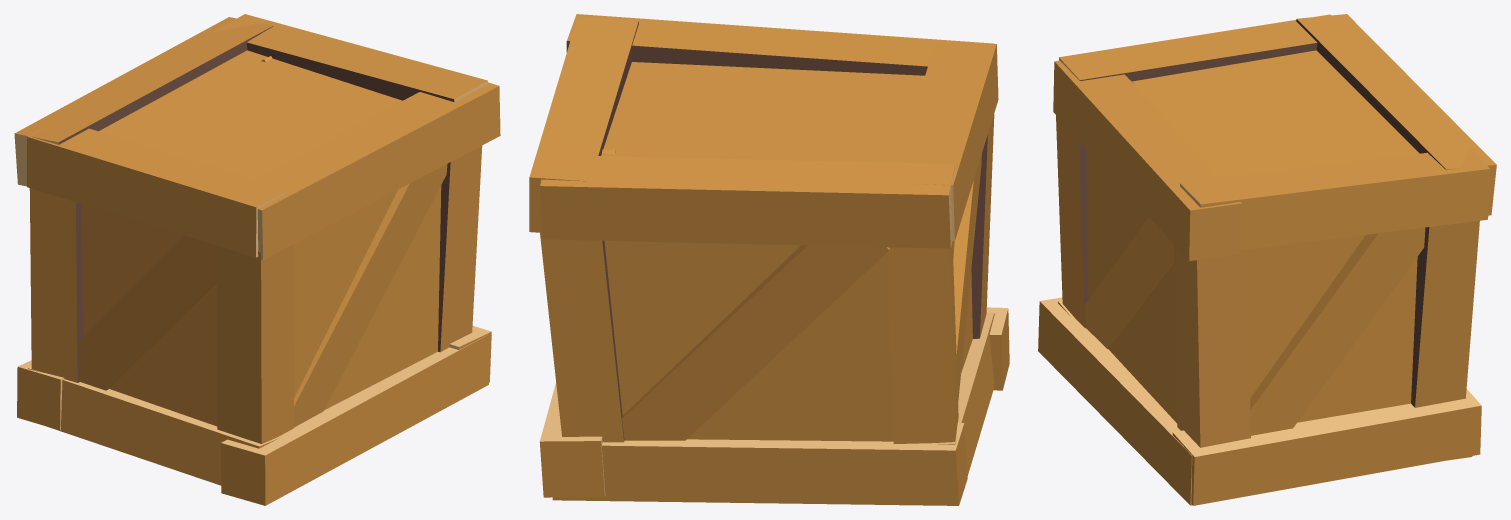
Rendered from crate-by-robin-brook-fKox3UXY7sU.glb.
3 views of the same model, side by side, from view 1: azimuth 30°, elevation 25°; view 2: azimuth 150°, elevation 25°; view 3: azimuth 270°, elevation 25° (orthographic). The views are drawn at different scales.
Visible parts, largest first — view 1: group769379167, group614302989, group1640372572, group1619923870, group2024746474, group39964771, group115951327, group981290163, group27205149, group1479183457, group764046395, group233117303 (+2 smaller); view 2: group769379167, group27205149, group1069006943, group789545055, group1479183457, group1256157347, group614302989, group1640372572, group764046395, group1988359528, group115951327, group2024746474 (+2 smaller); view 3: group769379167, group764046395, group1988359528, group614302989, group233117303, group447423448, group1619923870, group1256157347, group27205149, group1640372572, group981290163, group2024746474.
Boxes of the visible parts, bbox=[...] form: group769379167: bbox=[81, 50, 441, 426]; group614302989: bbox=[254, 82, 500, 260]; group1640372572: bbox=[27, 126, 289, 257]; group1619923870: bbox=[221, 334, 488, 505]; group2024746474: bbox=[217, 244, 293, 443]; group39964771: bbox=[78, 235, 216, 390]; group115951327: bbox=[28, 366, 279, 485]; group981290163: bbox=[294, 164, 447, 427]; group27205149: bbox=[14, 17, 273, 186]; group1479183457: bbox=[29, 188, 83, 382]; group764046395: bbox=[213, 14, 488, 102]; group233117303: bbox=[438, 146, 482, 352]; group769379167: bbox=[601, 62, 972, 441]; group27205149: bbox=[540, 155, 955, 248]; group1069006943: bbox=[552, 423, 967, 505]; group789545055: bbox=[622, 245, 889, 440]; group1479183457: bbox=[887, 241, 958, 443]; group1256157347: bbox=[540, 232, 624, 442]; group614302989: bbox=[566, 14, 994, 75]; group1640372572: bbox=[898, 42, 998, 240]; group764046395: bbox=[529, 16, 638, 232]; group1988359528: bbox=[539, 382, 605, 497]; group115951327: bbox=[931, 312, 994, 475]; group2024746474: bbox=[971, 114, 994, 338]; group769379167: bbox=[1087, 50, 1419, 423]; group764046395: bbox=[1180, 148, 1490, 249]; group1988359528: bbox=[1172, 389, 1481, 505]; group614302989: bbox=[1053, 60, 1241, 261]; group233117303: bbox=[1174, 245, 1250, 447]; group447423448: bbox=[1250, 227, 1425, 435]; group1619923870: bbox=[1038, 297, 1192, 505]; group1256157347: bbox=[1411, 220, 1479, 407]; group27205149: bbox=[1296, 14, 1496, 215]; group1640372572: bbox=[1059, 14, 1344, 81]; group981290163: bbox=[1084, 217, 1174, 348]; group2024746474: bbox=[1056, 115, 1088, 328].
Size of the model in its own units: 0.3465 by 0.2468 by 0.3304.
